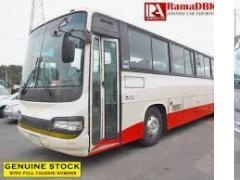bus: (14, 11, 214, 155)
